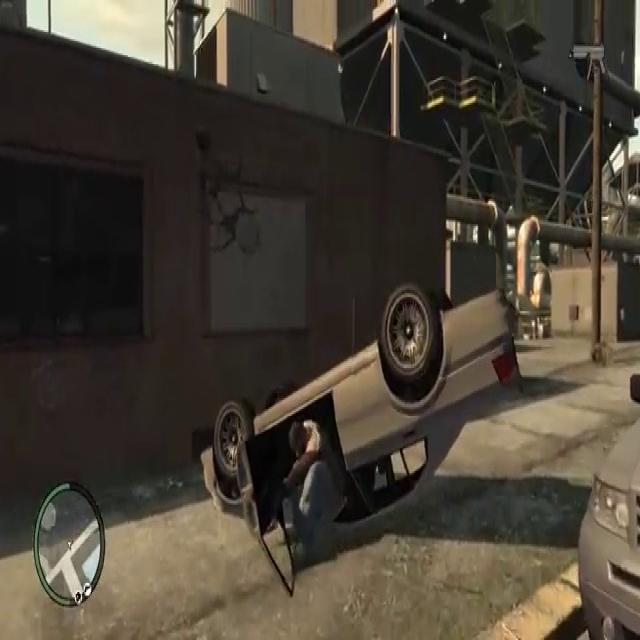severe: (192, 280, 524, 606)
